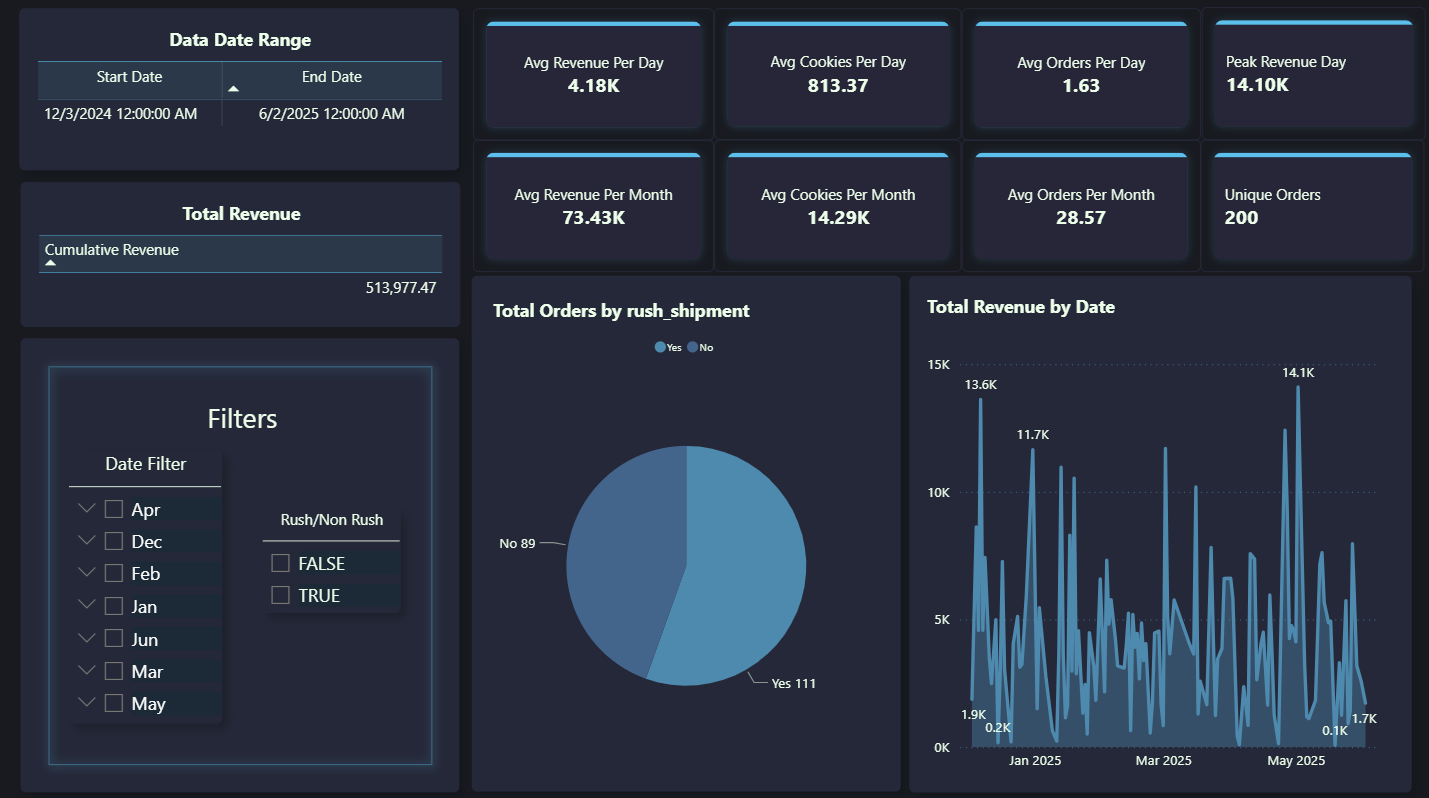

Layout of this report page (visuals, bound fields, positions):
{"tool":"powerbi","page":{"name":"Page 1","canvas":[1280,720],"ordinal":0},"visuals":[{"type":"shape","box":[20.1,304.8,391.9,405.3],"z":0},{"type":"lineChart","fields":{"Y":["Calendar.Total Revenue"],"Category":["Calendar.Date"]},"box":[814.3,248.6,448.6,461.4],"z":1000},{"type":"pieChart","fields":{"Category":["public cookies_orders.rush_shipment"],"Y":["Calendar.Total Orders"]},"box":[423.2,249,383,461.2],"z":2000},{"type":"cardVisual","fields":{"Data":["Calendar.Avg Orders Per Day"]},"box":[860.9,10,213.3,118.4],"z":3000},{"type":"cardVisual","fields":{"Data":["Calendar.Avg Revenue Per Day"]},"box":[424.3,10,215.5,118.4],"z":4000},{"type":"cardVisual","fields":{"Data":["Calendar.Avg Cookies Per Day"]},"box":[639.8,10,221.1,117.2],"z":5000},{"type":"cardVisual","fields":{"Data":["Calendar.Avg Orders Per Month"]},"box":[860.9,127.3,213.3,118.4],"z":6000},{"type":"cardVisual","fields":{"Data":["Calendar.Avg Revenue Per Month"]},"box":[424.3,127.3,215.5,118.4],"z":7000},{"type":"cardVisual","fields":{"Data":["Calendar.Avg Cookies Per Month"]},"box":[639.8,127.3,221.1,118.4],"z":8000},{"type":"cardVisual","fields":{"Data":["Calendar.Peak Revenue Day"]},"box":[1074.9,9.2,200,118.9],"z":9000},{"type":"tableEx","title":"Total Revenue ","fields":{"Values":["Calendar.Cumulative Revenue"]},"box":[20.1,165.3,393.1,129.5],"z":10000},{"type":"slicer","title":"Date Filter","fields":{"Values":["Calendar.MonthName","Calendar.MonthYear"]},"box":[62.5,404.2,137.3,244.5],"z":11000},{"type":"slicer","title":"Rush/Non Rush","fields":{"Values":["public cookies_orders.rush"]},"box":[235.6,456.7,123.9,93.8],"z":12000},{"type":"cardVisual","fields":{"Data":["Calendar.Unique Orders"]},"box":[1074.3,127.1,200,118.6],"z":13000},{"type":"tableEx","title":"Data Date Range","fields":{"Values":["Calendar.Start Date","Calendar.End Date"]},"box":[19,10,393.1,145.2],"z":14000},{"type":"textbox","box":[48,359.6,340.6,44.7],"z":15000}]}

Visuals, with their boxes in screenshot pixels (x1, y1, x2, y2), scaled from the page's 1280x720 canvas onto the 1429x798 screenshot:
shape: x1=22, y1=338, x2=460, y2=787
lineChart - Calendar.Total Revenue x Calendar.Date: x1=909, y1=276, x2=1410, y2=787
pieChart - public cookies_orders.rush_shipment x Calendar.Total Orders: x1=472, y1=276, x2=900, y2=787
cardVisual - Calendar.Avg Orders Per Day: x1=961, y1=11, x2=1199, y2=142
cardVisual - Calendar.Avg Revenue Per Day: x1=474, y1=11, x2=714, y2=142
cardVisual - Calendar.Avg Cookies Per Day: x1=714, y1=11, x2=961, y2=141
cardVisual - Calendar.Avg Orders Per Month: x1=961, y1=141, x2=1199, y2=272
cardVisual - Calendar.Avg Revenue Per Month: x1=474, y1=141, x2=714, y2=272
cardVisual - Calendar.Avg Cookies Per Month: x1=714, y1=141, x2=961, y2=272
cardVisual - Calendar.Peak Revenue Day: x1=1200, y1=10, x2=1423, y2=142
"Total Revenue " tableEx: x1=22, y1=183, x2=461, y2=327
"Date Filter" slicer: x1=70, y1=448, x2=223, y2=719
"Rush/Non Rush" slicer: x1=263, y1=506, x2=401, y2=610
cardVisual - Calendar.Unique Orders: x1=1199, y1=141, x2=1423, y2=272
"Data Date Range" tableEx: x1=21, y1=11, x2=460, y2=172
textbox: x1=54, y1=399, x2=434, y2=448
